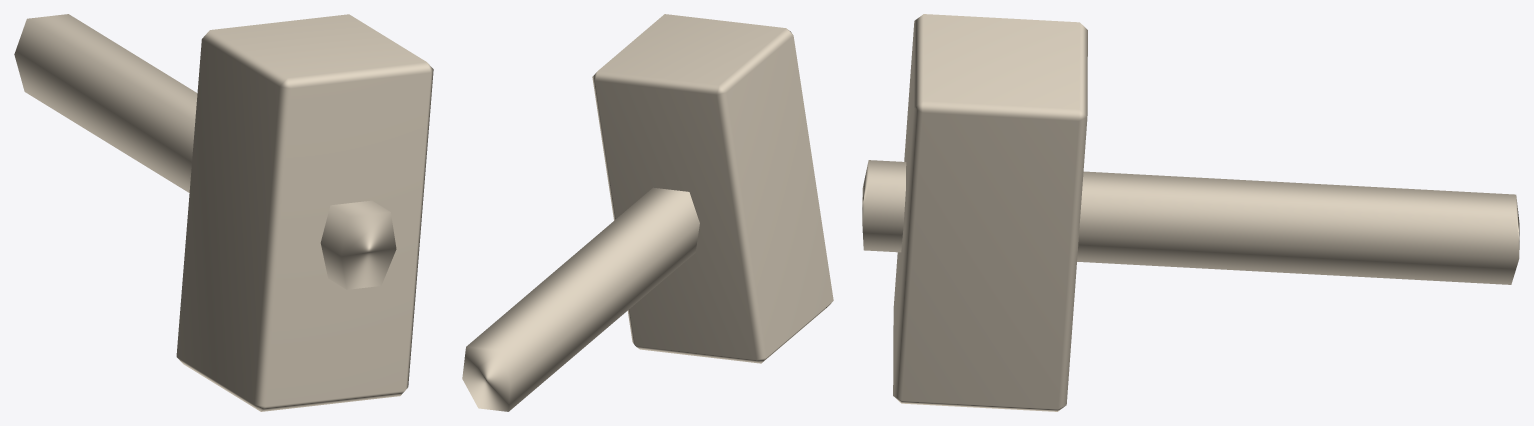
File: hammer-base.glb
The picture shows the model from 3 angles, left to right: view 1: azimuth 30°, elevation 25°; view 2: azimuth 150°, elevation 25°; view 3: azimuth 270°, elevation 25°; orthographic projection. The views are drawn at different scales.
Bounding box in the file's own units: 0.2336 × 0.4036 × 0.6909.
